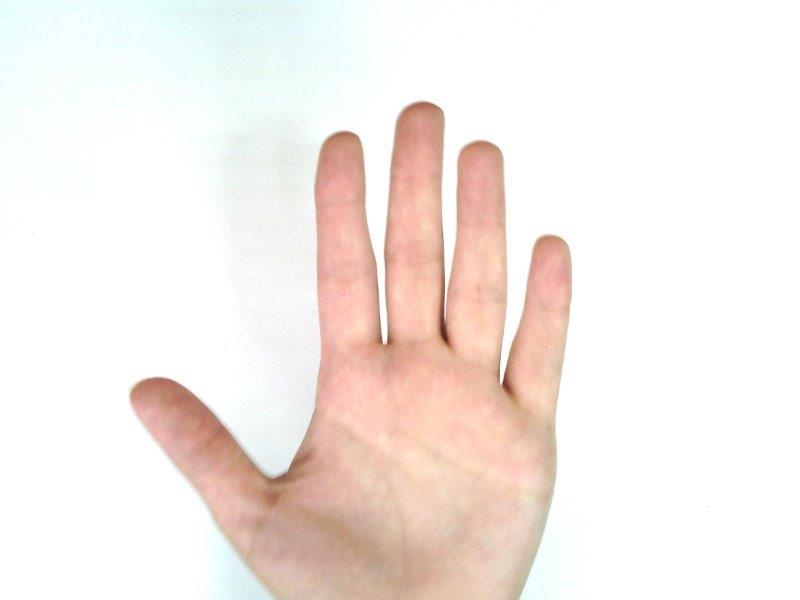hand: (130, 103, 572, 594)
